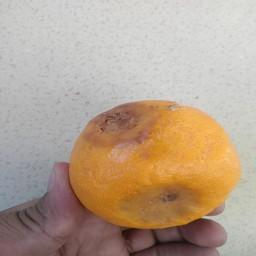Bad_orange: (62, 96, 241, 230)
